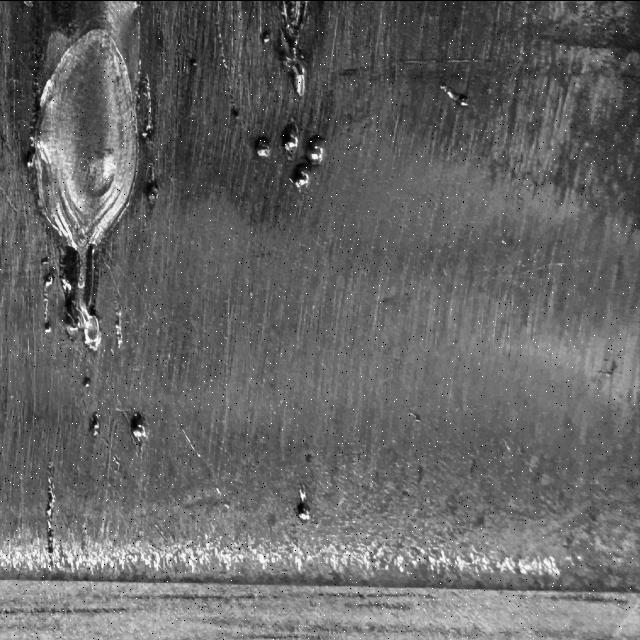Excess Reinforcement: (60, 243, 101, 350)
Spatters: (282, 55, 305, 95), (46, 460, 54, 553), (440, 83, 468, 105), (282, 122, 298, 158), (290, 162, 309, 192), (130, 412, 146, 442), (308, 135, 324, 163), (115, 303, 124, 348), (446, 87, 468, 105), (255, 135, 271, 157), (296, 500, 310, 520), (89, 412, 99, 435), (148, 187, 158, 202), (44, 273, 53, 287), (261, 30, 270, 42), (22, 0, 34, 7), (44, 320, 51, 332), (82, 377, 90, 387), (261, 35, 270, 43), (41, 257, 48, 263)
